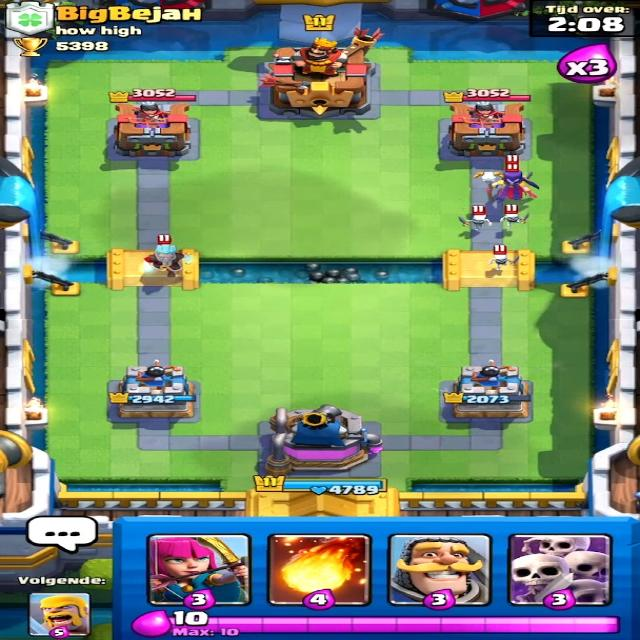Enemy_Ice_Wizard_Troop: (134, 245, 199, 279)
Enemy_Skeleton_Troop: (488, 251, 520, 270), (501, 211, 530, 228), (460, 213, 489, 230)
Enemy_Witch_Troop: (477, 160, 537, 206)
Fireball_Card: (270, 532, 367, 605)
